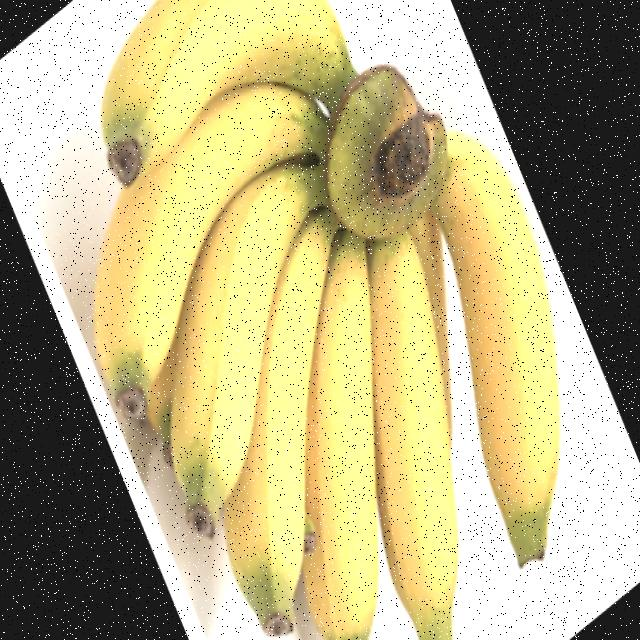god quality banana: (94, 1, 560, 640)
